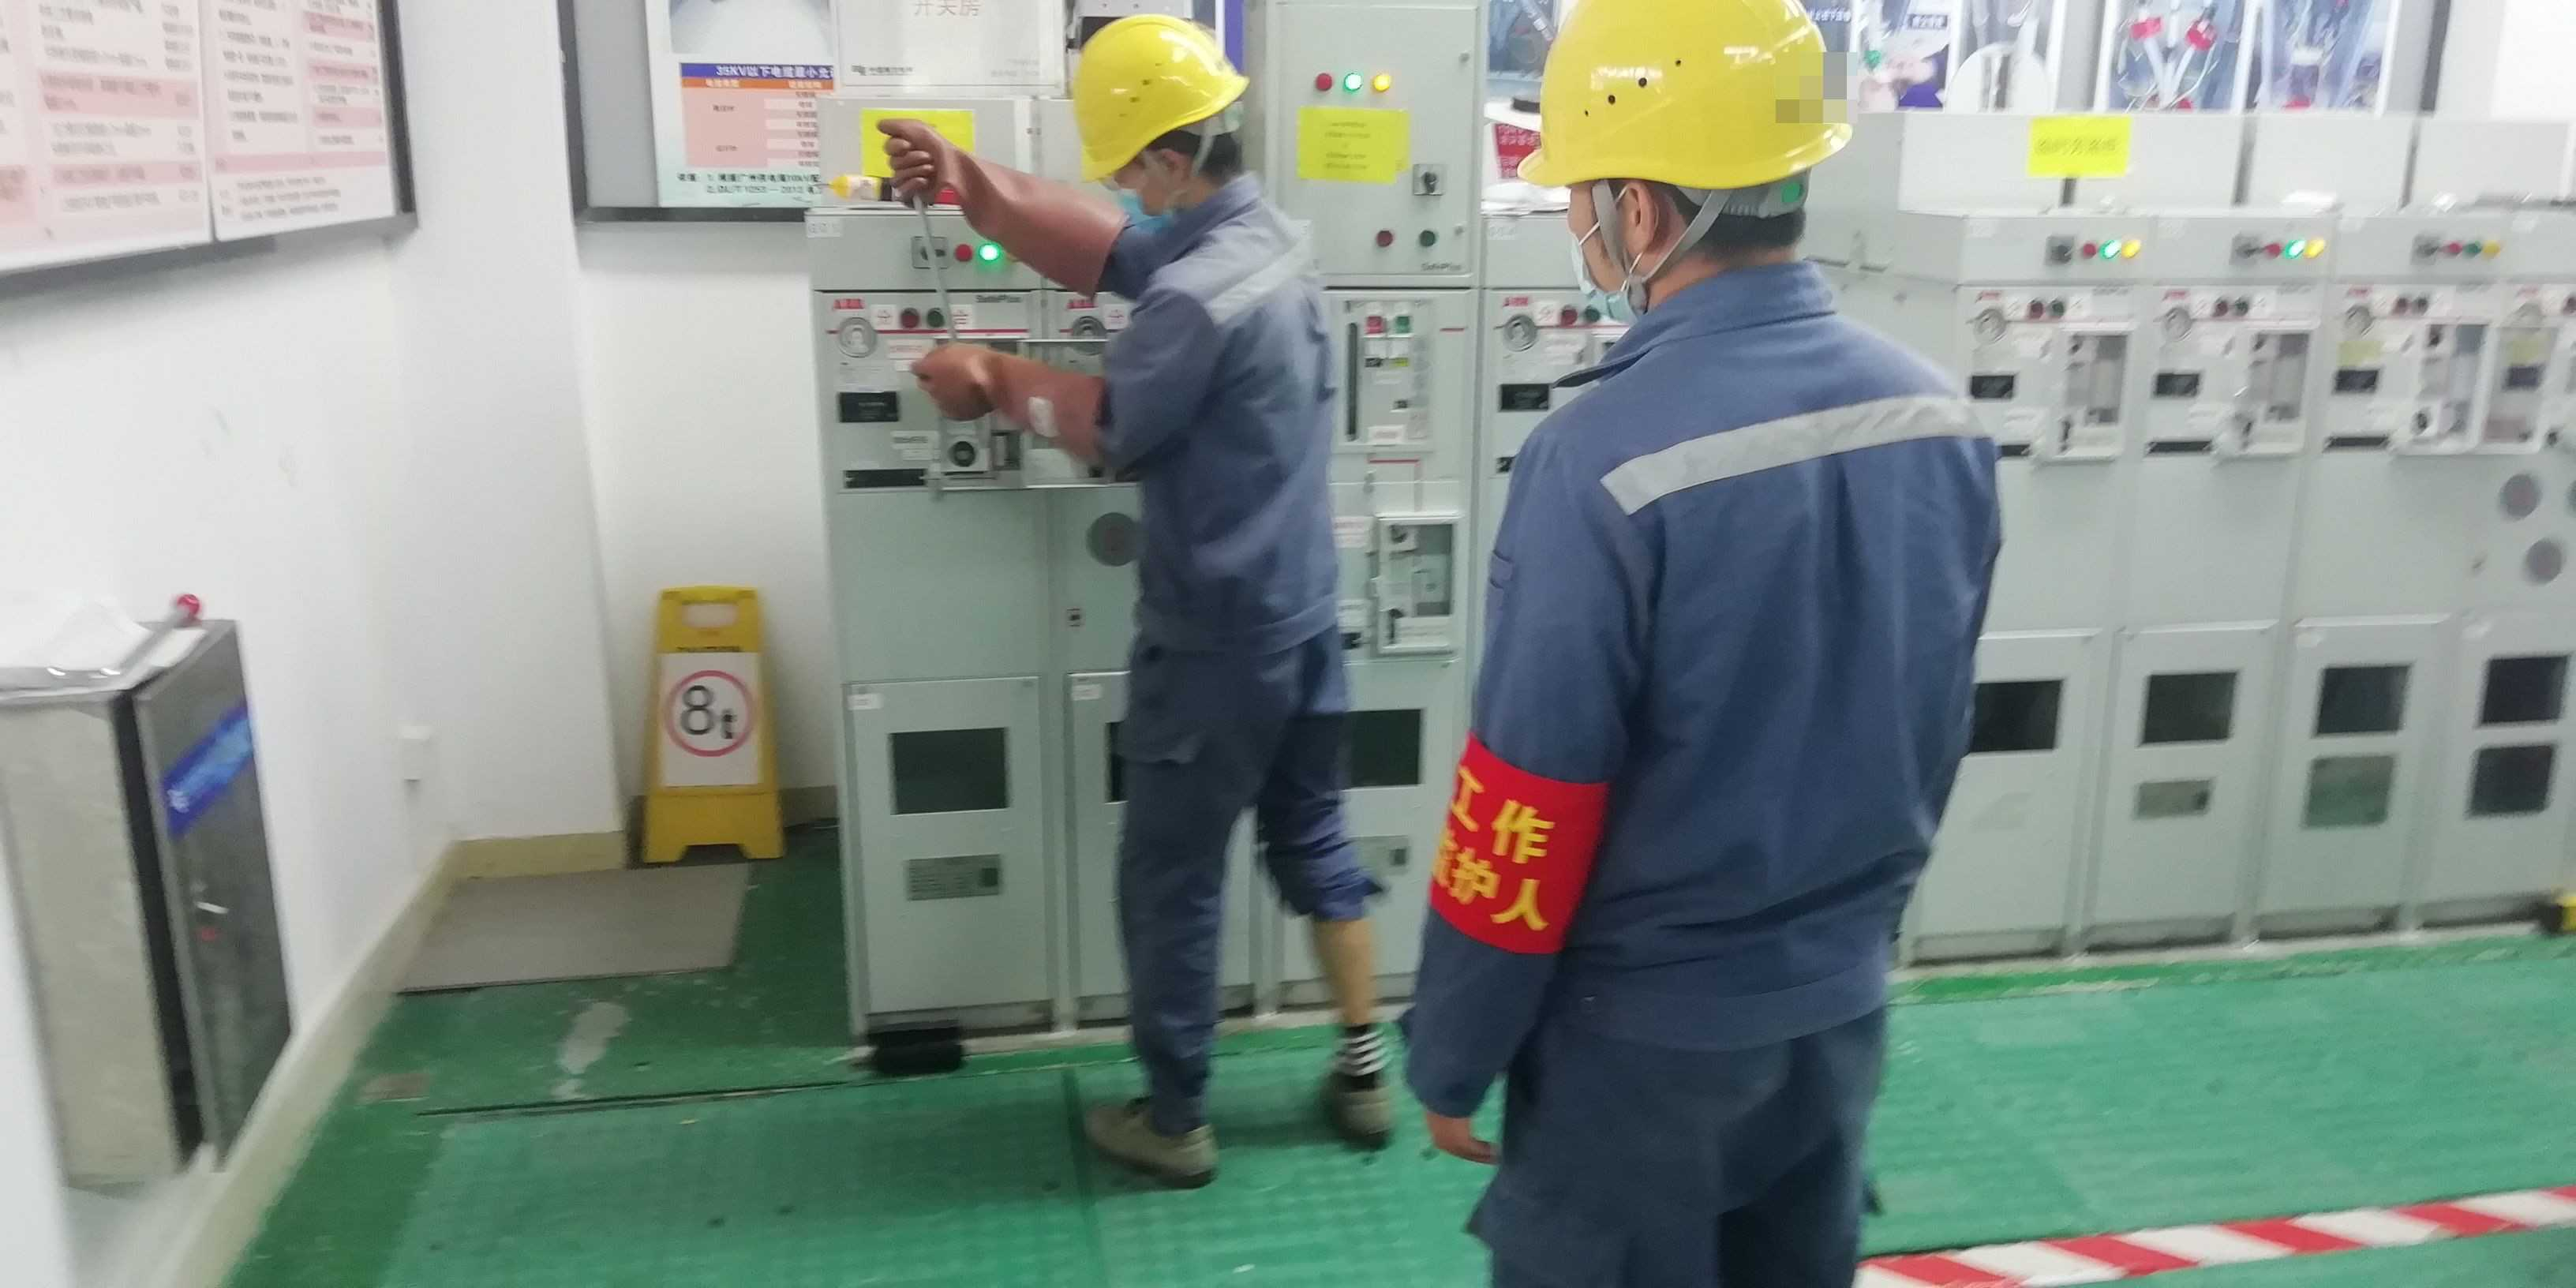downsuit: (1114, 662, 1378, 1112), (1483, 1068, 1899, 1288)
upsuit: (1411, 271, 2001, 1032), (1101, 192, 1355, 637)
wrongbottom: (1293, 859, 1390, 1056)
